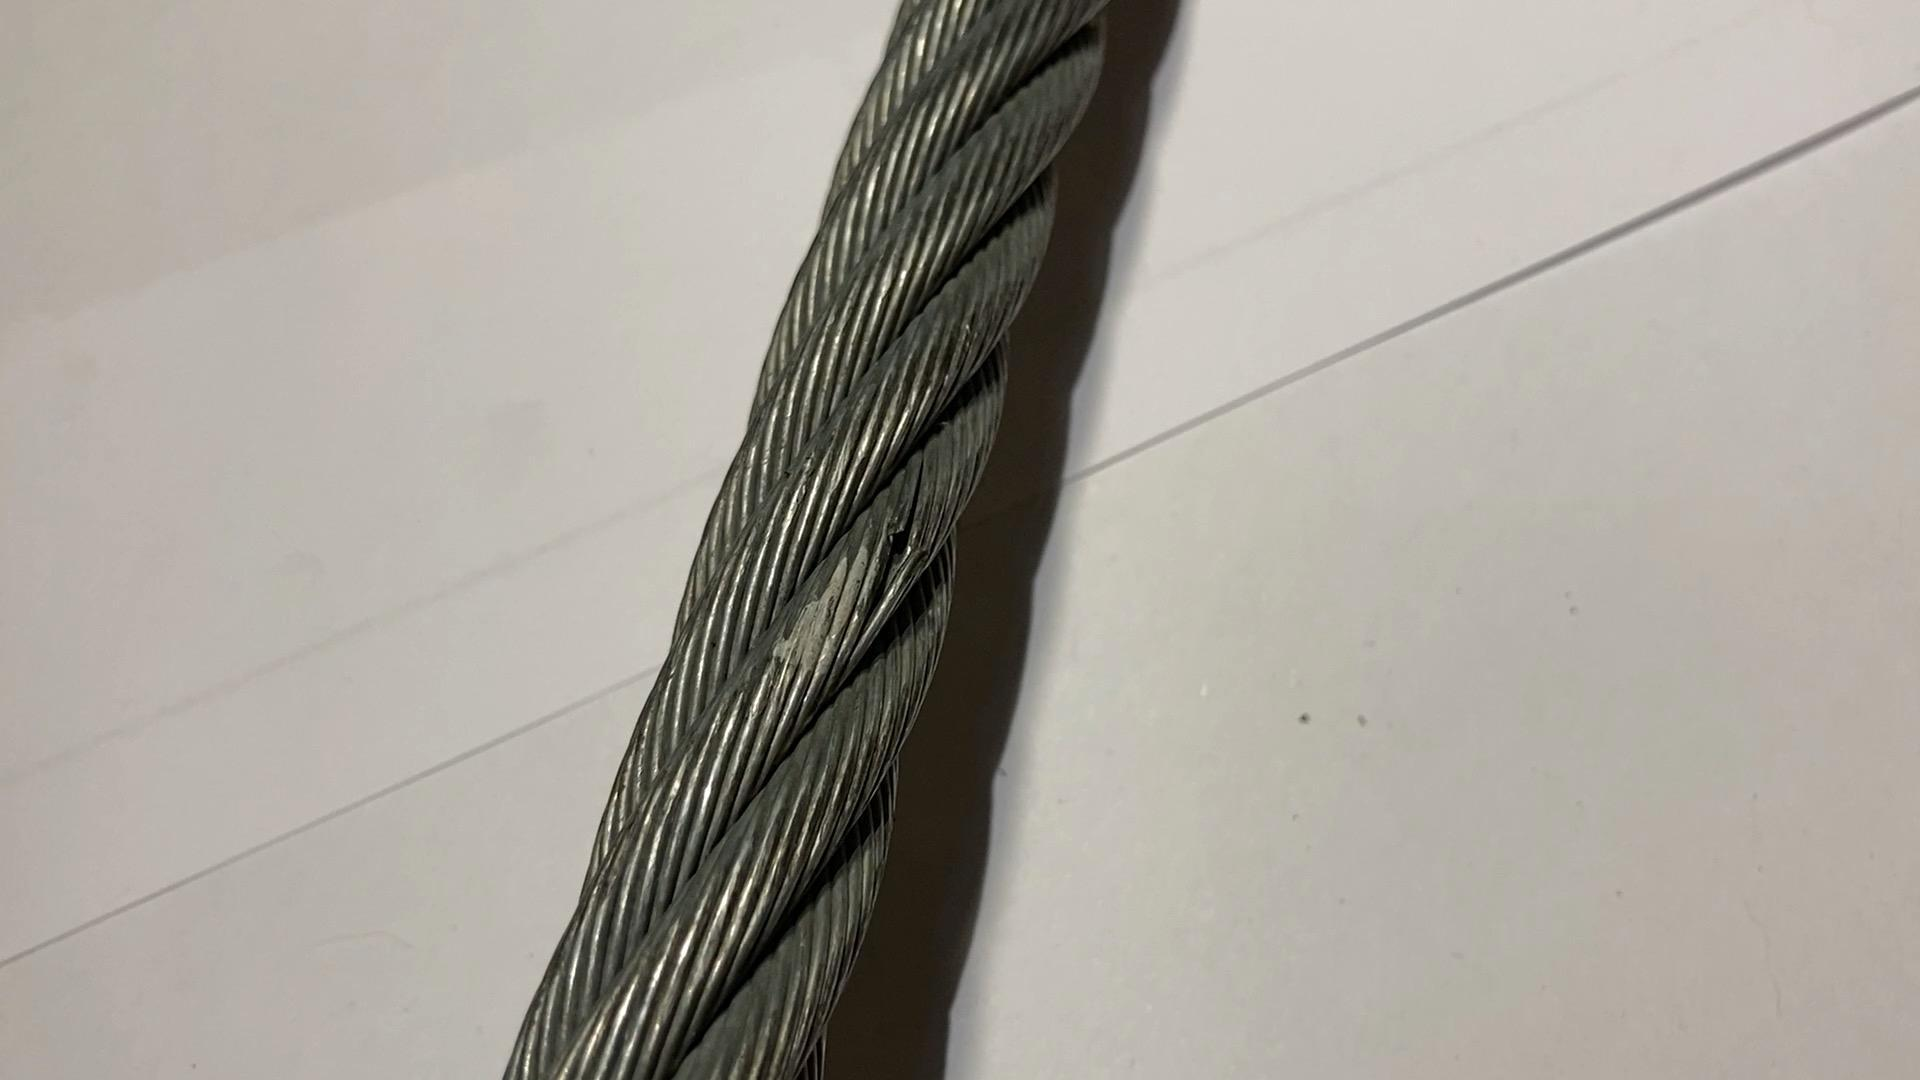break: (851, 502, 940, 609)
